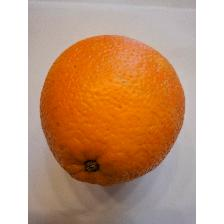Orange: (38, 31, 188, 191)
